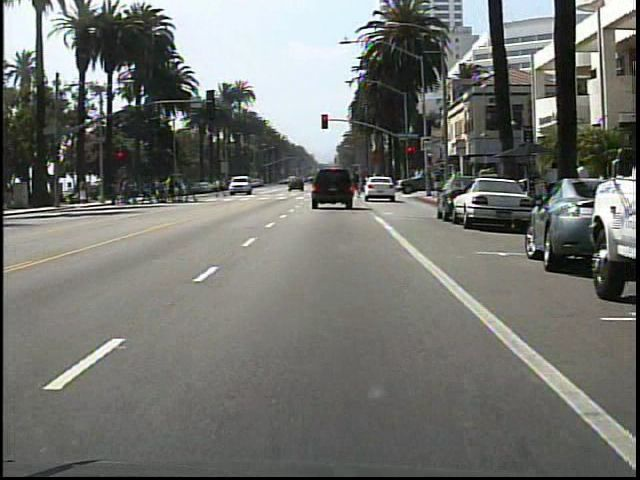person: (544, 156, 566, 216), (571, 155, 591, 212), (212, 172, 231, 201)
